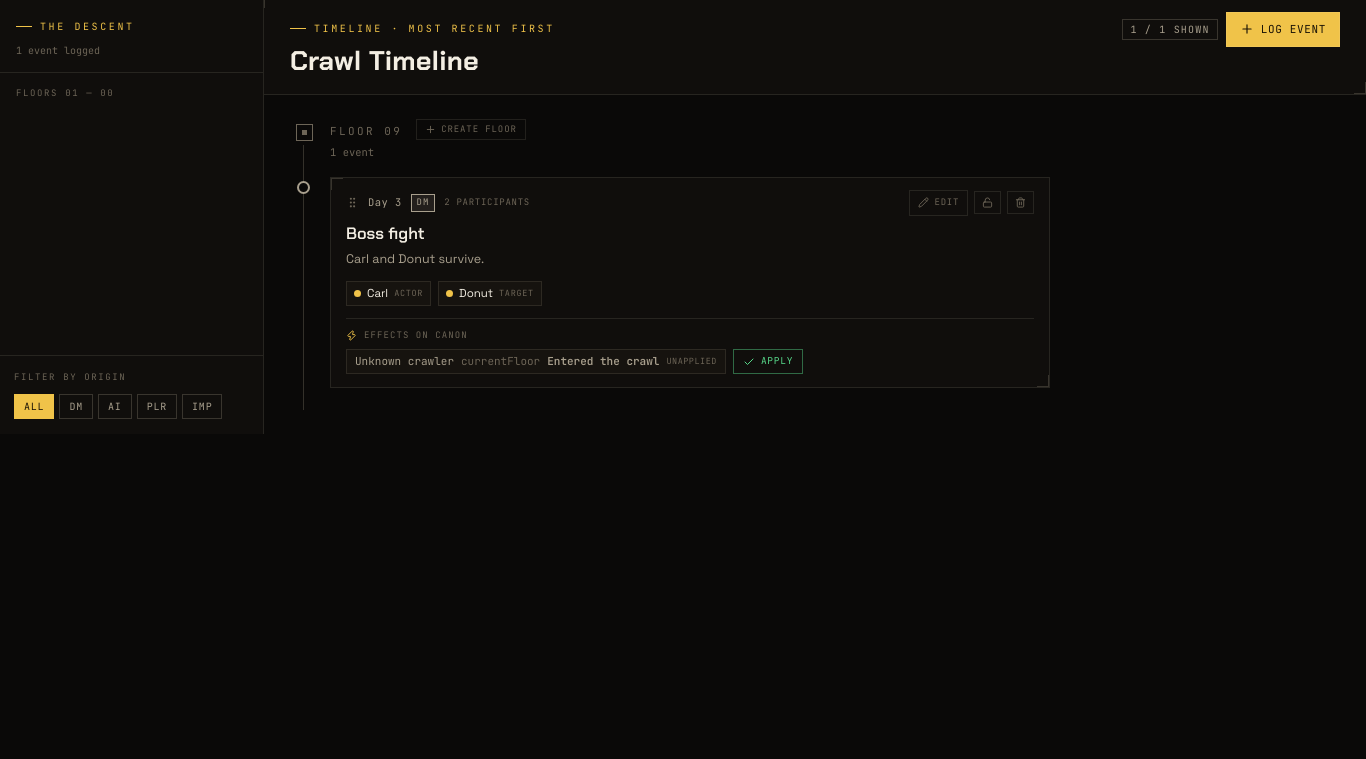
Test: CampaignTimeline › prefills effect rows in the edit form and keeps it open on save errors
Click the button with aria-label "Edit event": x=938, y=203 908,190 -> 968,216
(page scrolled)
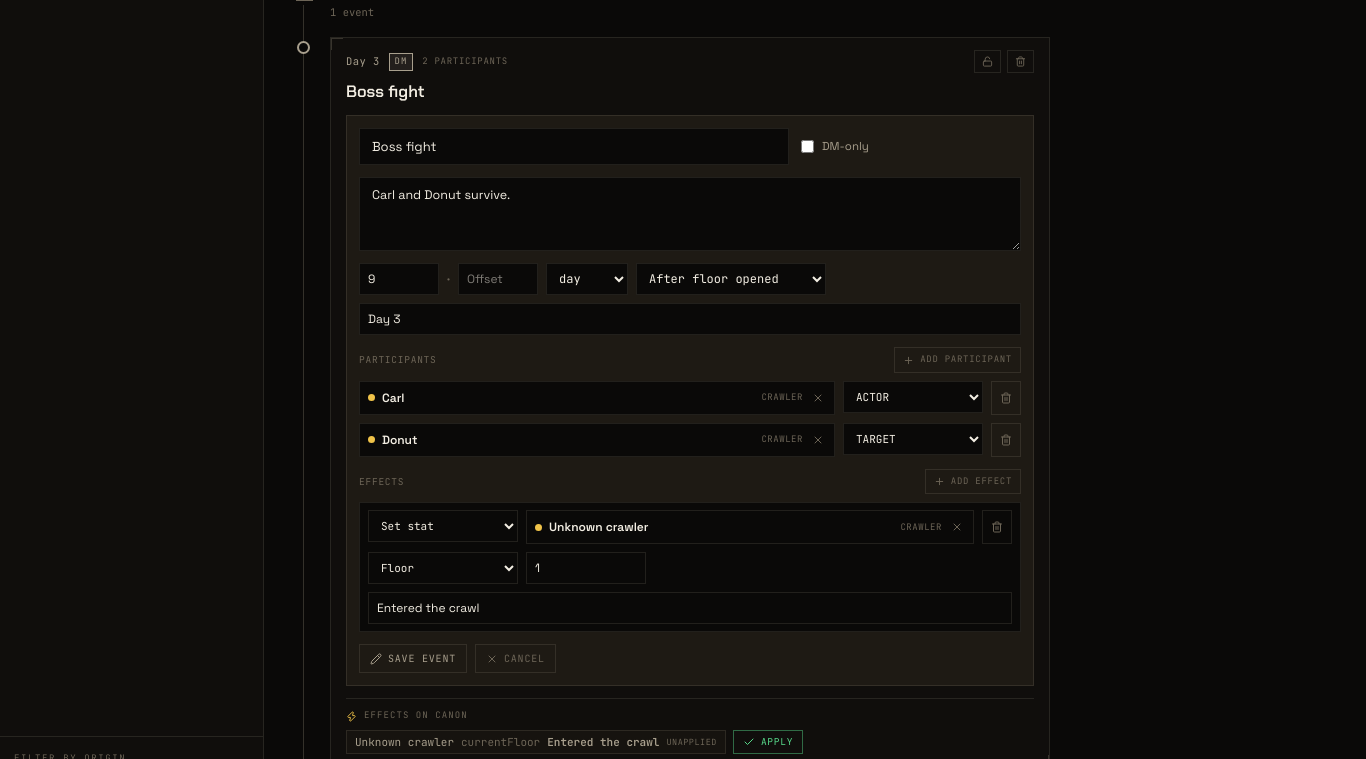
Expected: the number field named "effectValueNumber_0" holds "1", 526,552 -> 646,584
Now the element named "effectId_0" holds "fx-unknown", box 359,502 -> 1021,632
Now the text "Unknown crawler" below "Donut" is shown, box 549,519 -> 648,535
Submit the form named "Event title", box 359,128 -> 1021,632
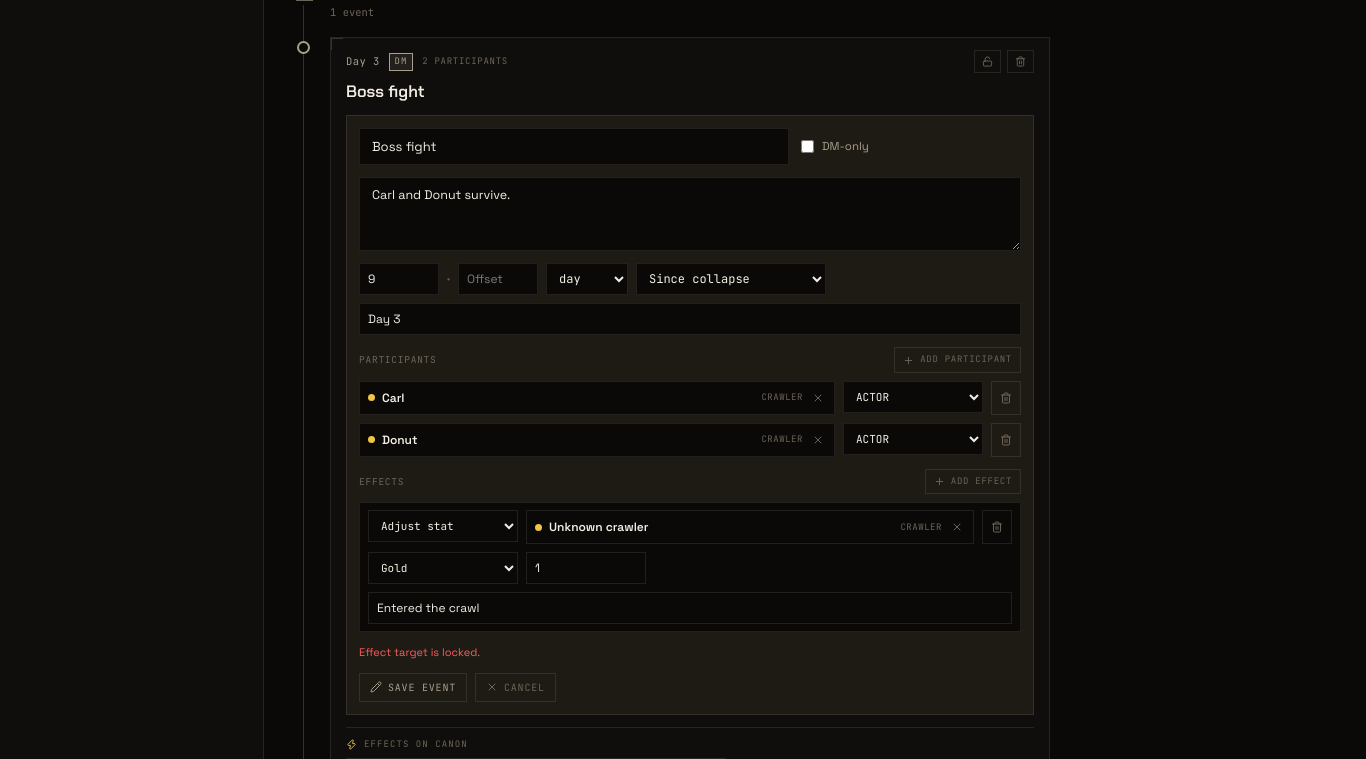
Now the field named "Event title" is shown, box 359,128 -> 789,165
Now the message shows "locked", box 359,645 -> 480,659
